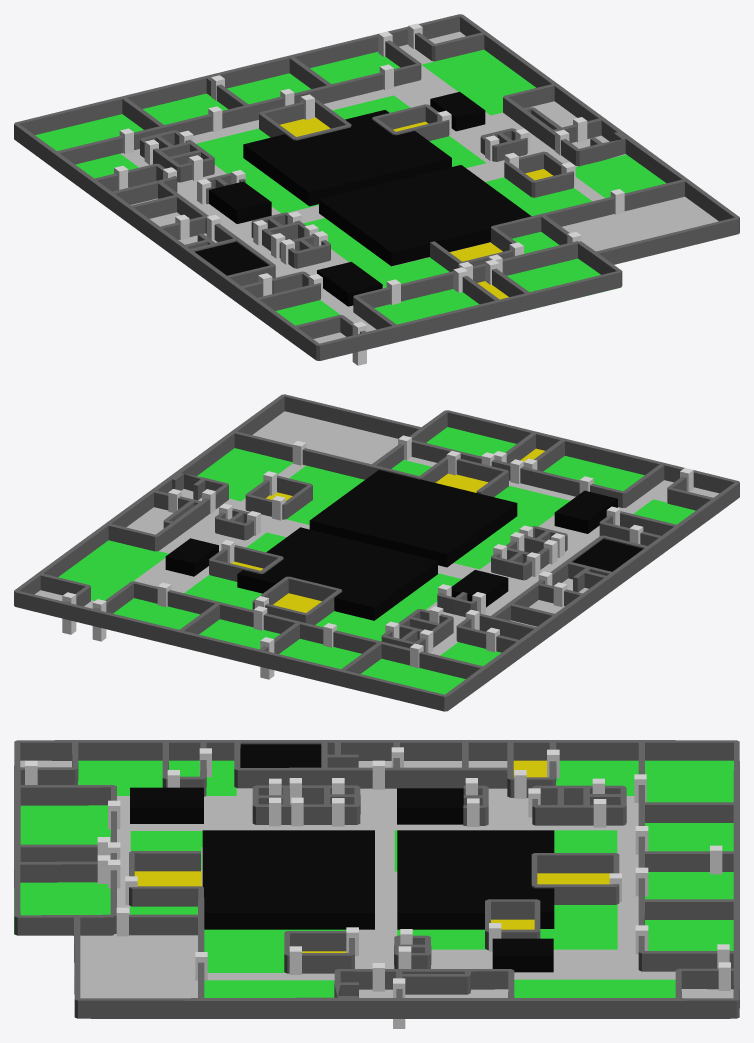
File: MapTest.glb
3 views of the same model, one above another, from view 1: azimuth 30°, elevation 25°; view 2: azimuth 150°, elevation 25°; view 3: azimuth 270°, elevation 25° (orthographic). The views are drawn at different scales.
Parts seen in each view (by area): view 1: Walls_Curve, Blackout, Greens, Gray, Doors, Yellows; view 2: Walls_Curve, Blackout, Greens, Gray, Doors, Yellows; view 3: Walls_Curve, Greens, Blackout, Gray, Doors, Yellows.
Part boxes in pixels (left/top/right/bottom): Walls_Curve: left=14, top=14, right=739, bottom=360; Blackout: left=195, top=91, right=531, bottom=306; Greens: left=35, top=49, right=665, bottom=325; Gray: left=120, top=31, right=718, bottom=343; Doors: left=114, top=23, right=624, bottom=365; Yellows: left=280, top=117, right=552, bottom=299; Walls_Curve: left=14, top=394, right=739, bottom=711; Blackout: left=165, top=470, right=642, bottom=620; Greens: left=58, top=427, right=695, bottom=694; Gray: left=34, top=411, right=719, bottom=655; Doors: left=62, top=435, right=693, bottom=679; Yellows: left=232, top=448, right=544, bottom=612; Walls_Curve: left=14, top=740, right=739, bottom=1018; Greens: left=14, top=760, right=733, bottom=997; Blackout: left=130, top=744, right=554, bottom=972; Gray: left=20, top=760, right=733, bottom=998; Doors: left=25, top=747, right=730, bottom=1028; Yellows: left=134, top=760, right=609, bottom=952.
Bounding box in the file's own units: 4.24 × 0.3442 × 4.99.
